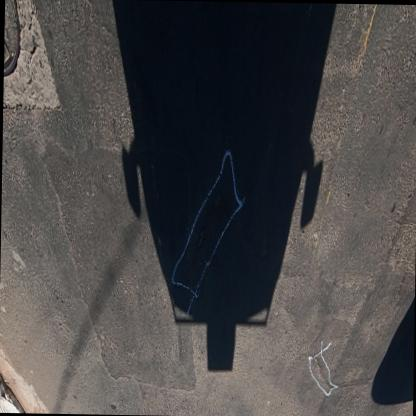manholes: (1, 0, 30, 115)
